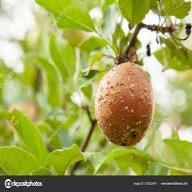apple: (95, 63, 154, 148)
